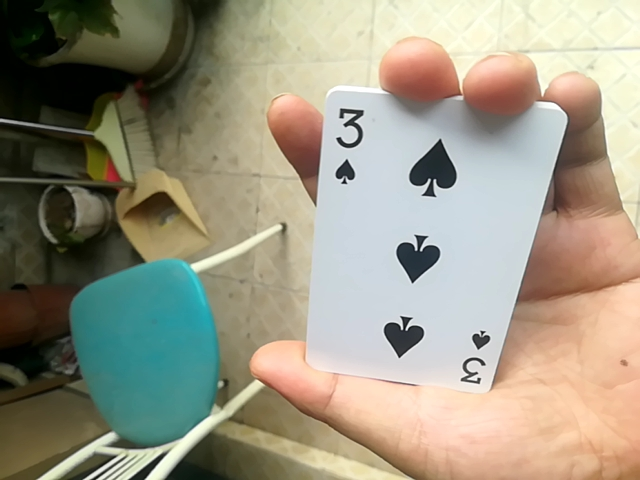ht 3: (307, 104, 574, 384)
